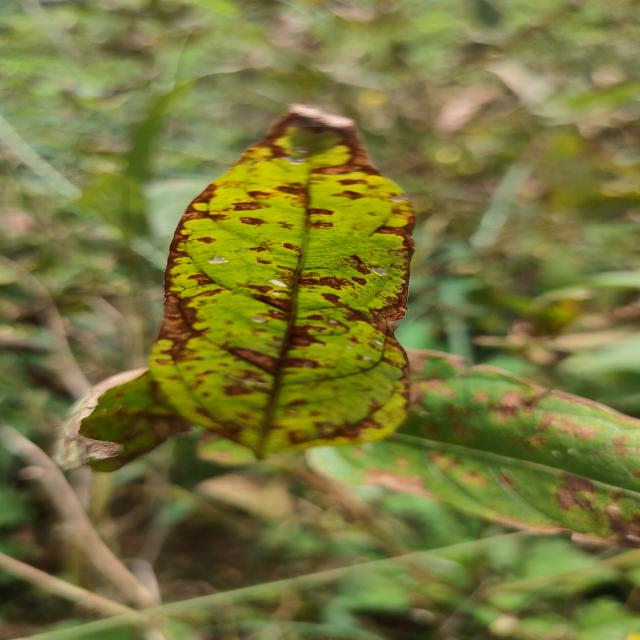Black gram_leaf spot: (146, 100, 412, 452), (304, 321, 640, 558)
